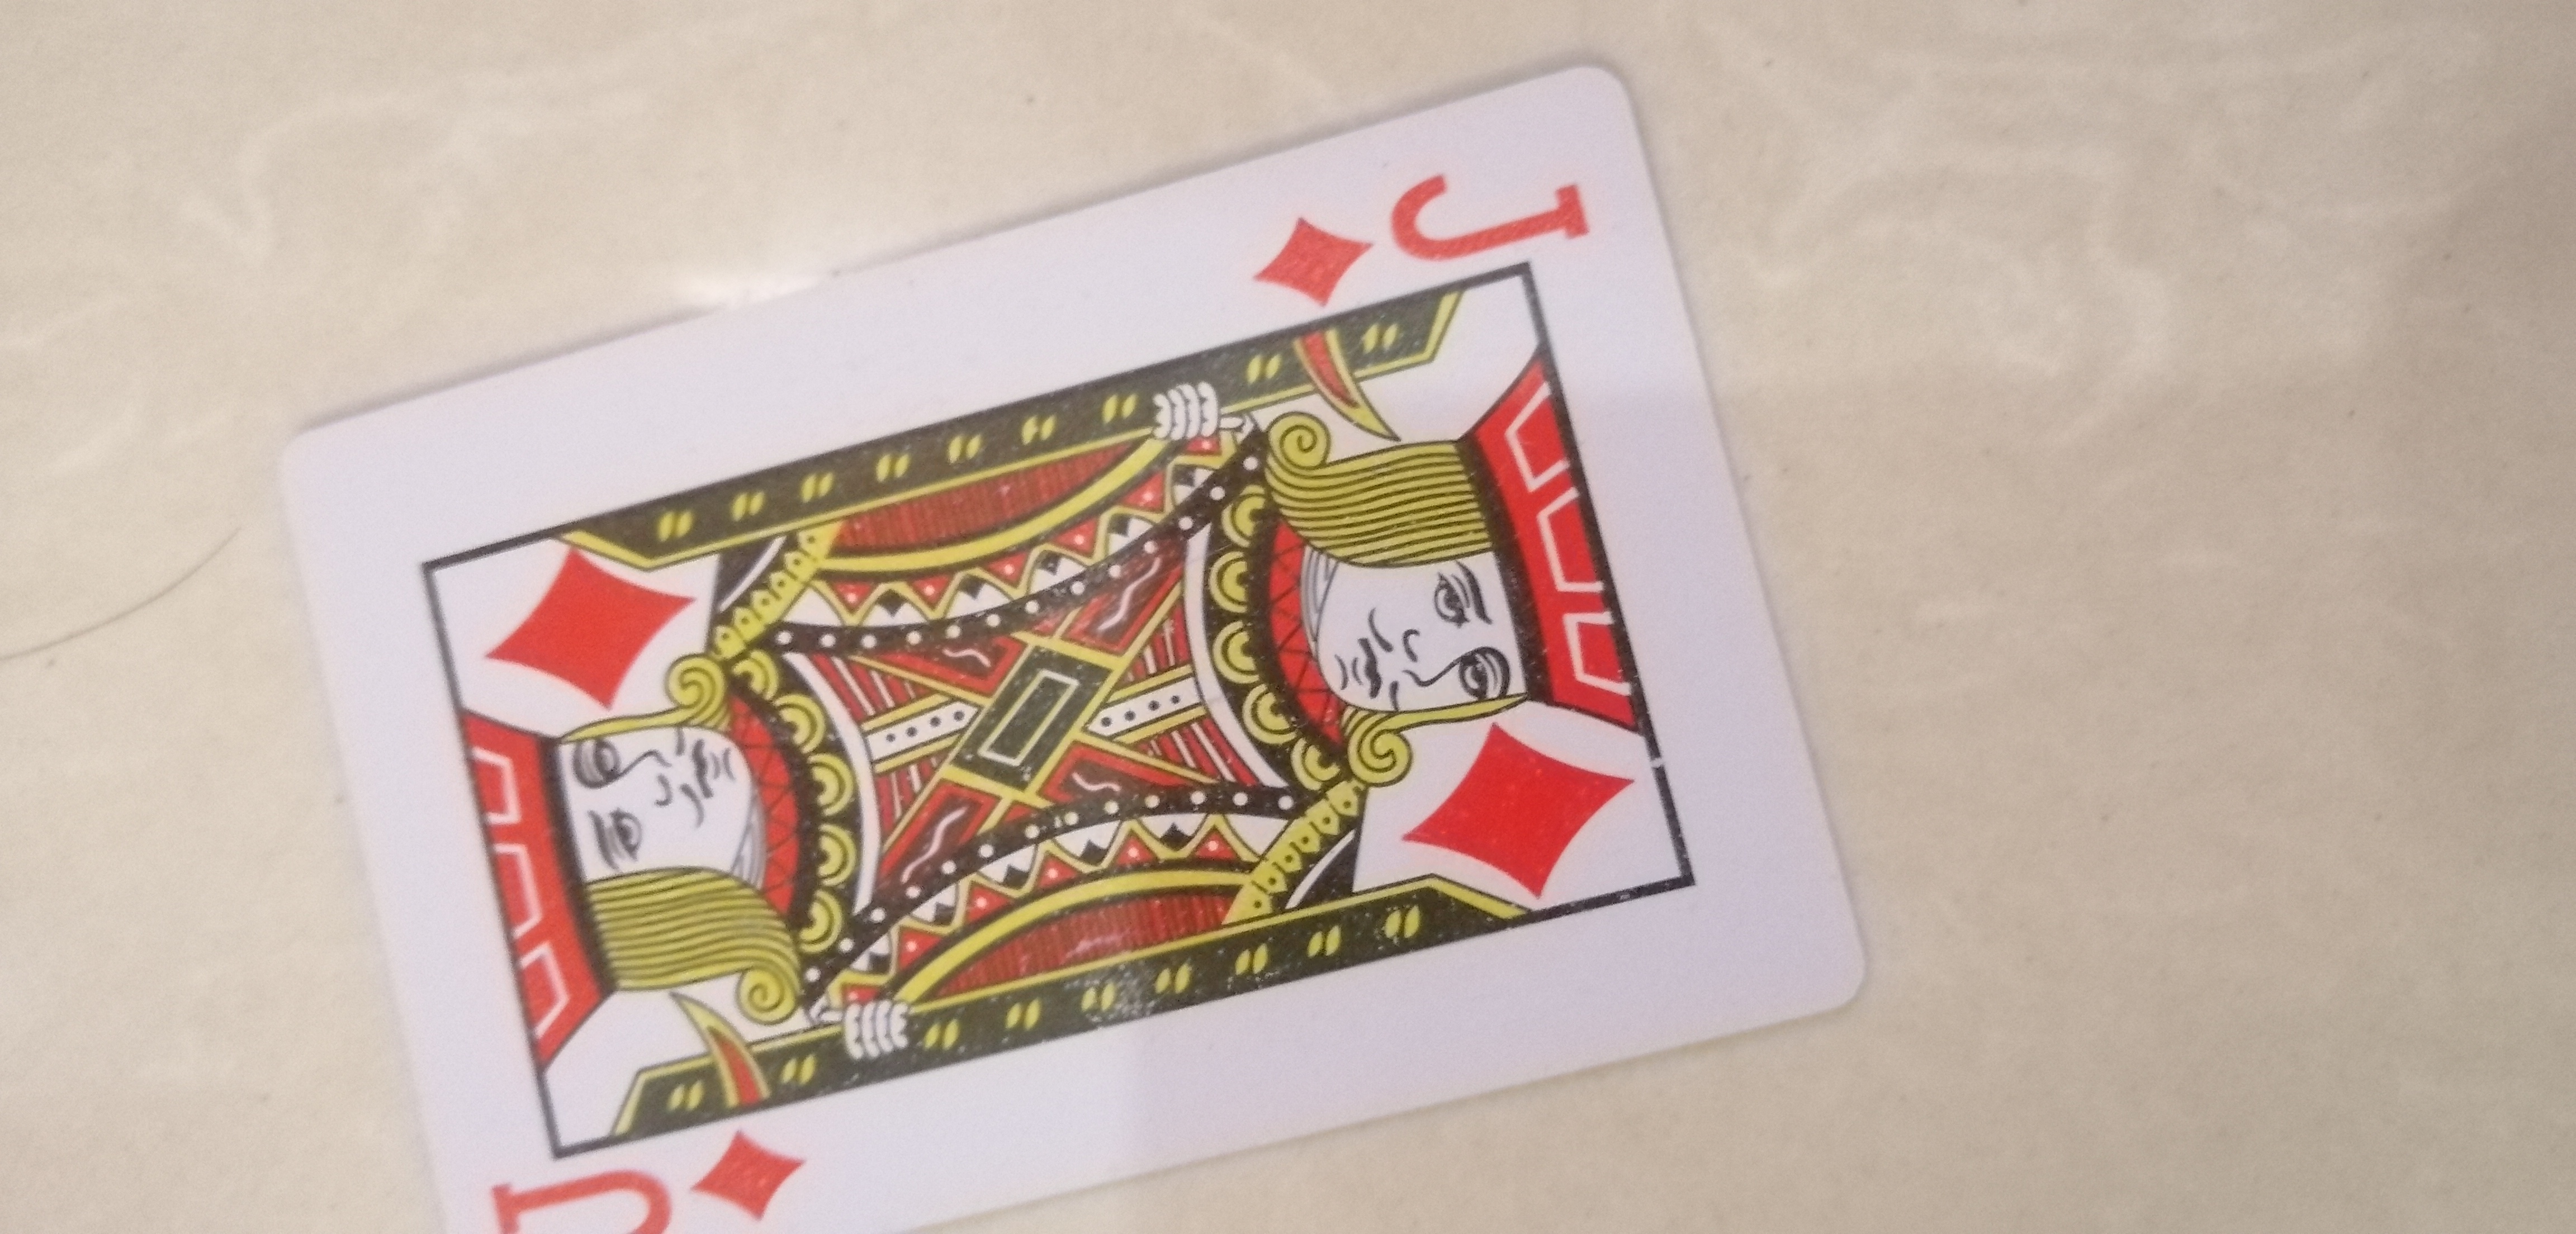jack: (253, 85, 1901, 1204)
